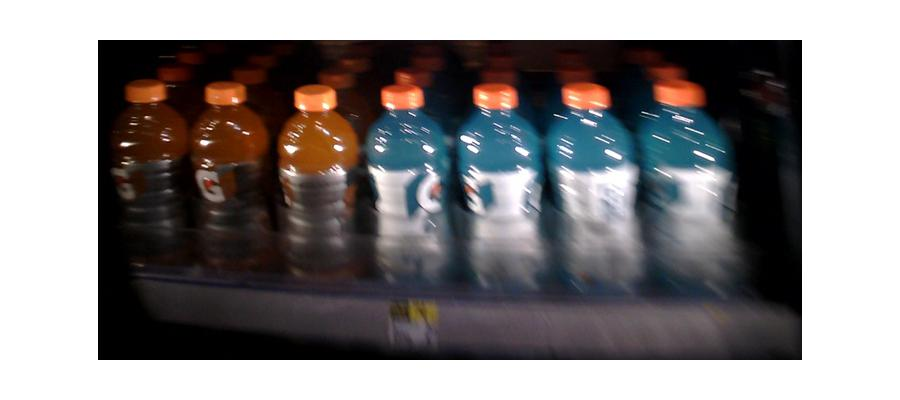bottle: (635, 84, 741, 302), (544, 81, 640, 292), (456, 86, 546, 294), (362, 84, 450, 288), (274, 84, 356, 286), (190, 80, 268, 276), (113, 79, 186, 269)
